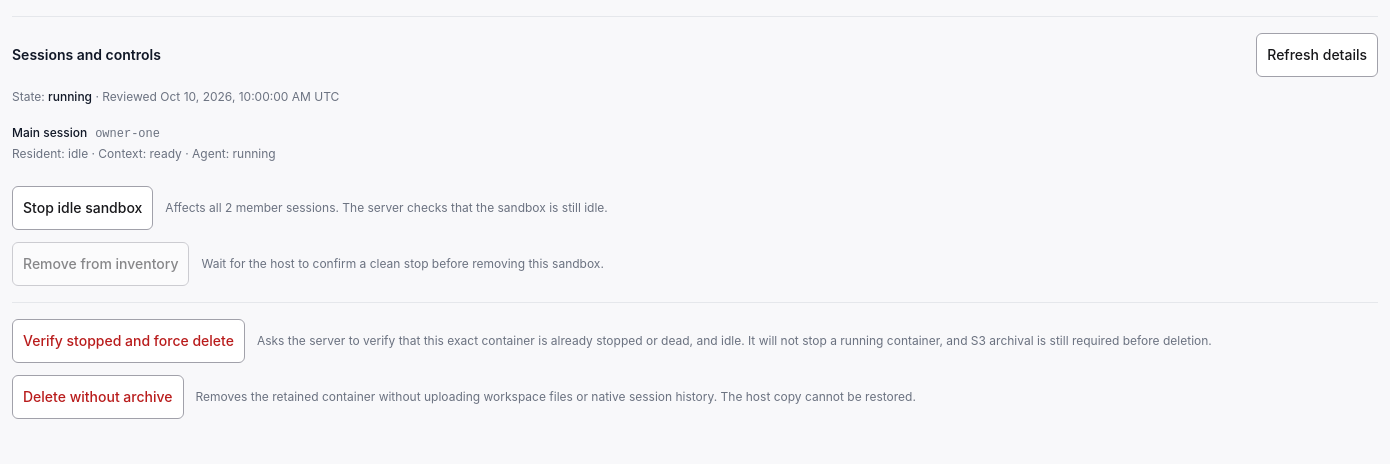
Test case: sandbox member visibility and control › confirms the shared effect and posts exactly the reviewed container and activity
The image size is (1390, 464).
Click the button "Stop idle sandbox": click(83, 208) [12,186,153,230]
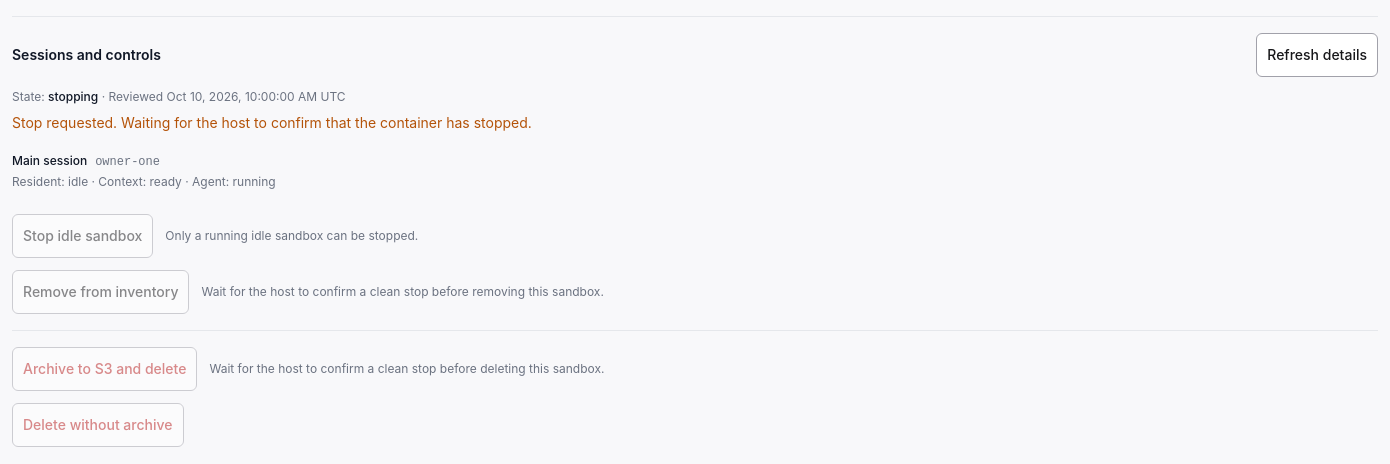
expect the text "Stop requested. Waiting for the host" is shown: met, box [12,114,532,131]
expect the button "Stop idle sandbox" is disabled: met, box [12,214,153,258]
